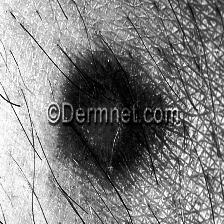Benign Marking or Mole: (61, 56, 161, 167)
